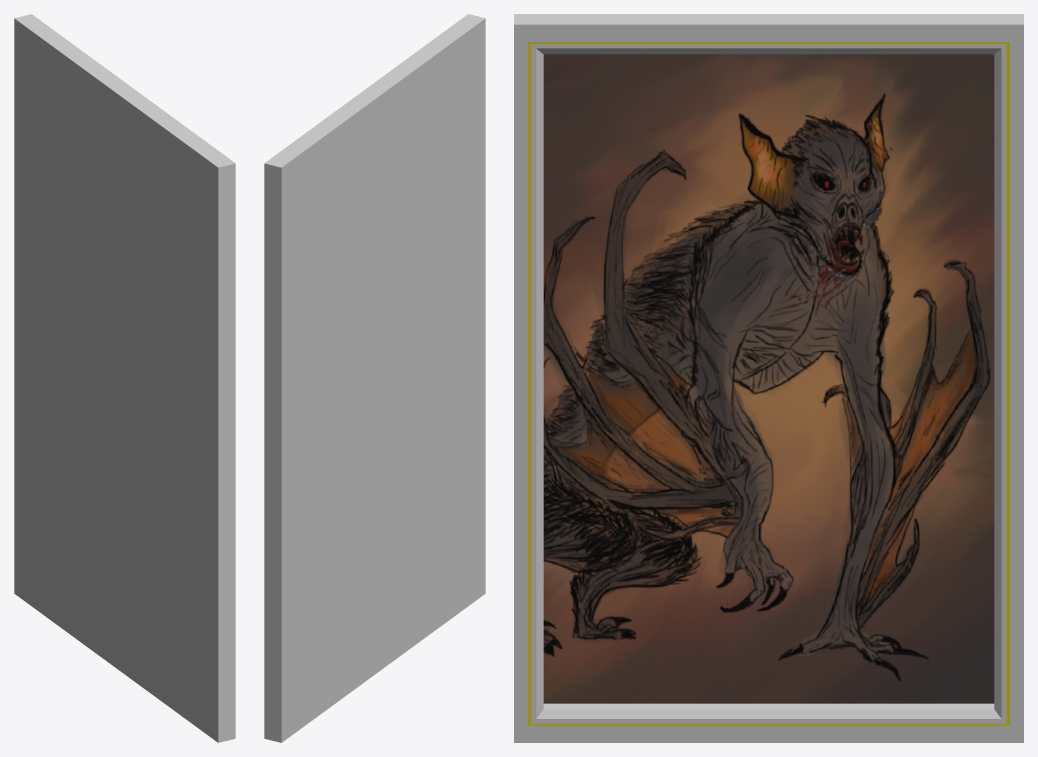
The model's file is painting2.fbx.
3 views of the same model, side by side, from view 1: azimuth 30°, elevation 25°; view 2: azimuth 150°, elevation 25°; view 3: azimuth 270°, elevation 25° (orthographic). The views are drawn at different scales.
Visible parts, largest first — view 1: Cube; view 2: Cube; view 3: Cube.
Boxes of the visible parts, x1=… form: Cube: x1=14, y1=14, x2=235, y2=742; Cube: x1=264, y1=14, x2=485, y2=742; Cube: x1=514, y1=14, x2=1023, y2=742.
Bounding box in the file's own units: 9.67 × 304 × 196.
